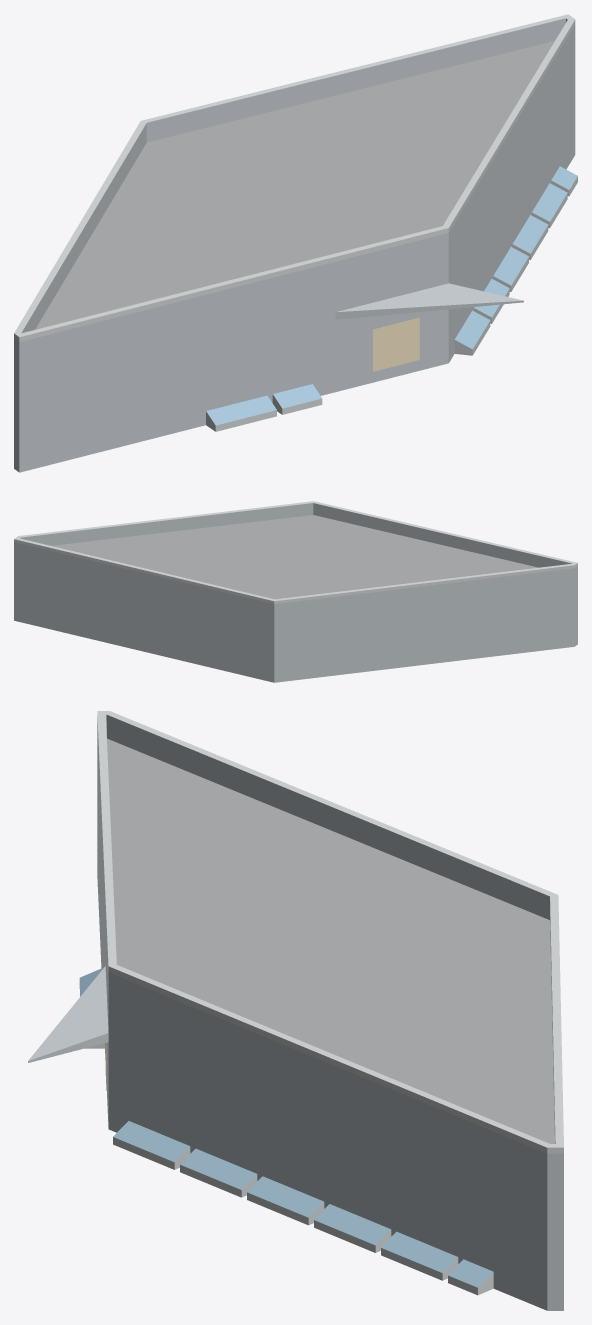
The model's file is hou-contemporary-arts-museum.glb.
3 views of the same model, one above another, from view 1: azimuth 30°, elevation 25°; view 2: azimuth 150°, elevation 25°; view 3: azimuth 270°, elevation 25° (orthographic). The views are drawn at different scales.
Parts seen in each view (by area): view 1: Contemporary Arts Museum Houston; view 2: Contemporary Arts Museum Houston; view 3: Contemporary Arts Museum Houston.
Boxes of the visible parts, bbox=[...] form: Contemporary Arts Museum Houston: bbox=[14, 14, 577, 472]; Contemporary Arts Museum Houston: bbox=[14, 501, 577, 682]; Contemporary Arts Museum Houston: bbox=[28, 711, 563, 1310].
Size of the model in its own units: 55.1 by 9.6 by 28.6.
